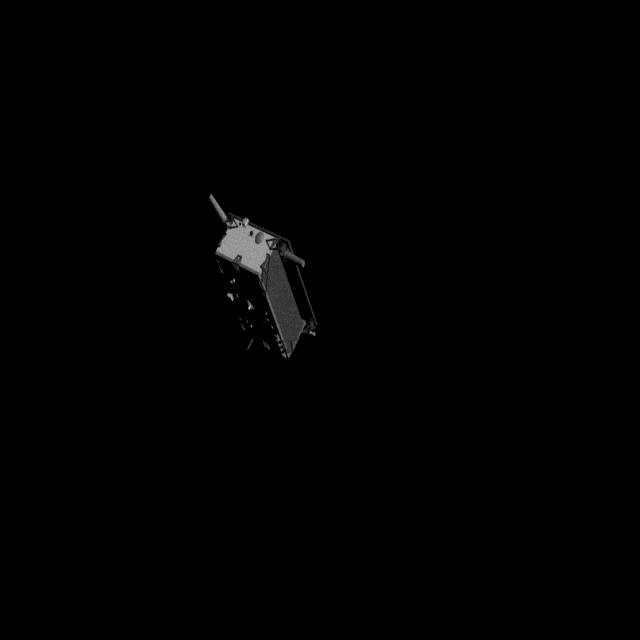satellite: (194, 190, 328, 368)
